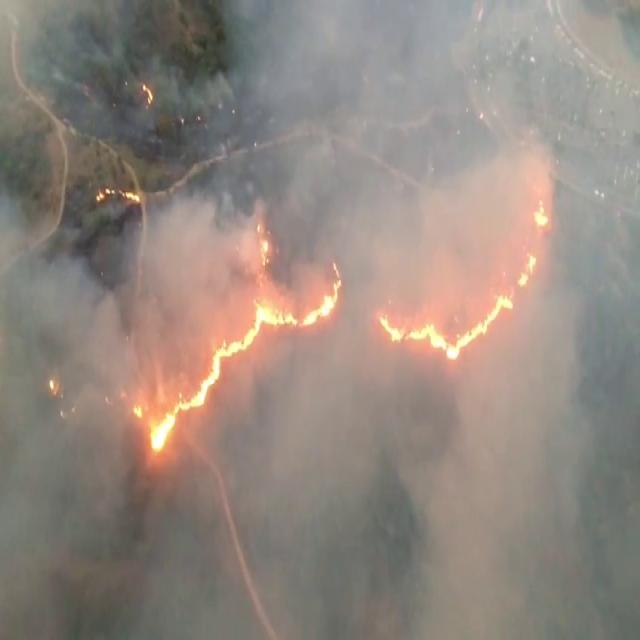smoke: (298, 404, 587, 626), (252, 18, 482, 200)
